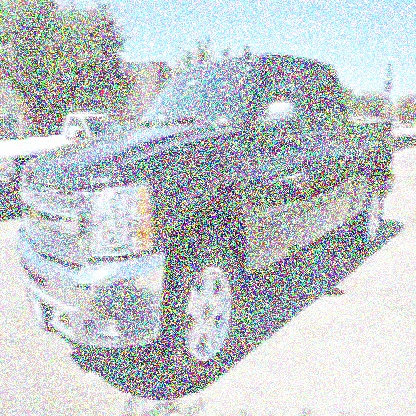Vehicle: (18, 50, 395, 393)
